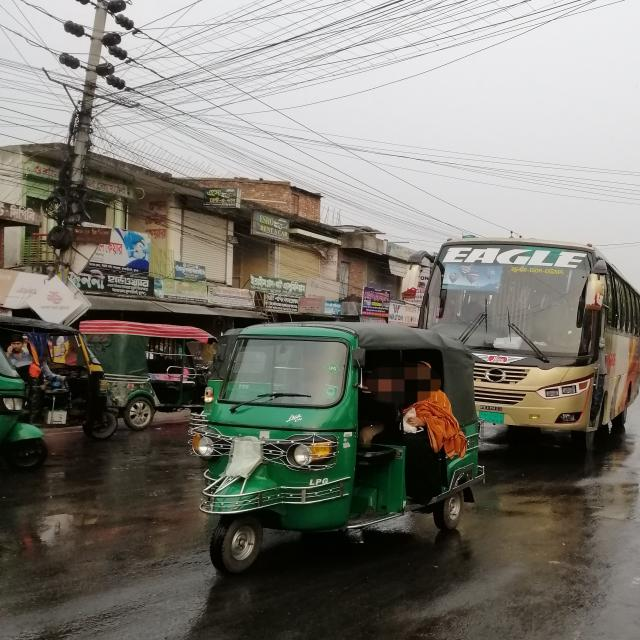Bus: (417, 238, 640, 452)
CNG: (187, 318, 494, 577)
